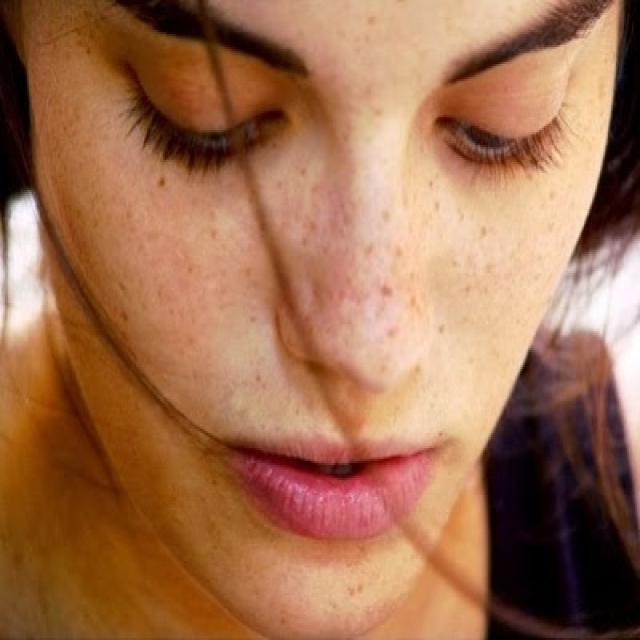Dark-Spots: (47, 169, 562, 392), (179, 479, 432, 640), (309, 2, 405, 166)
